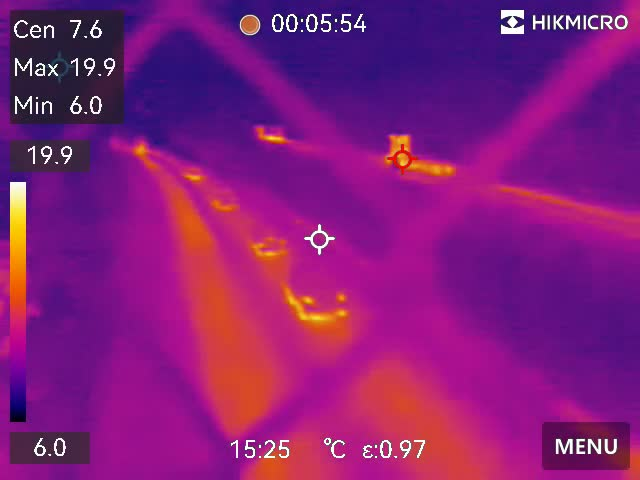heavyTruck: (381, 131, 454, 177)
